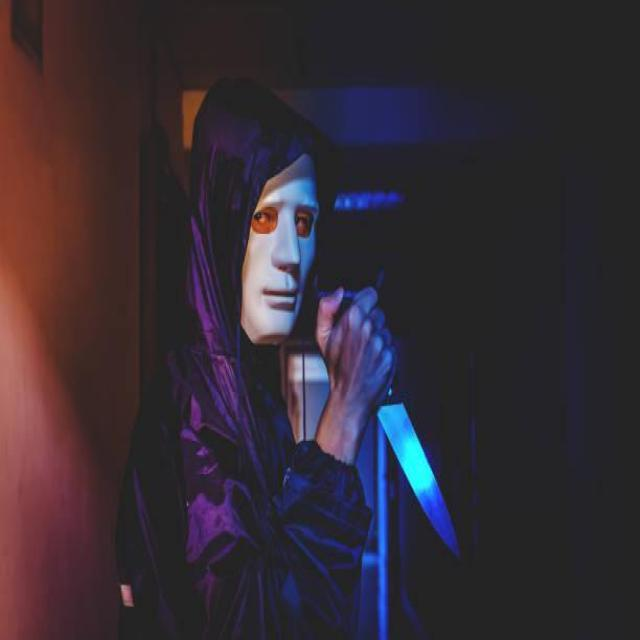faca: (316, 282, 464, 562)
